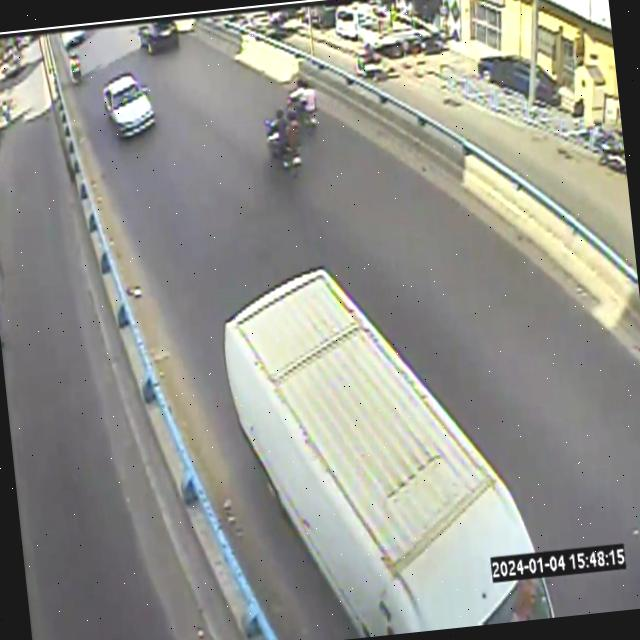car: (224, 268, 552, 634), (477, 54, 528, 96), (136, 19, 180, 56), (535, 65, 560, 105)
